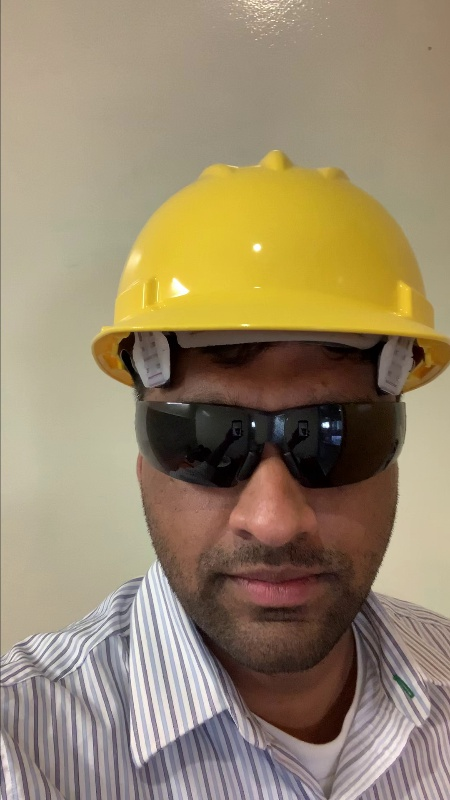glasses: (128, 384, 418, 492)
helmet: (77, 147, 450, 388)
